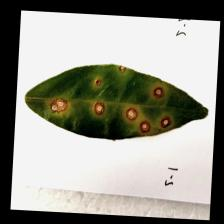canker: (40, 68, 183, 135)
